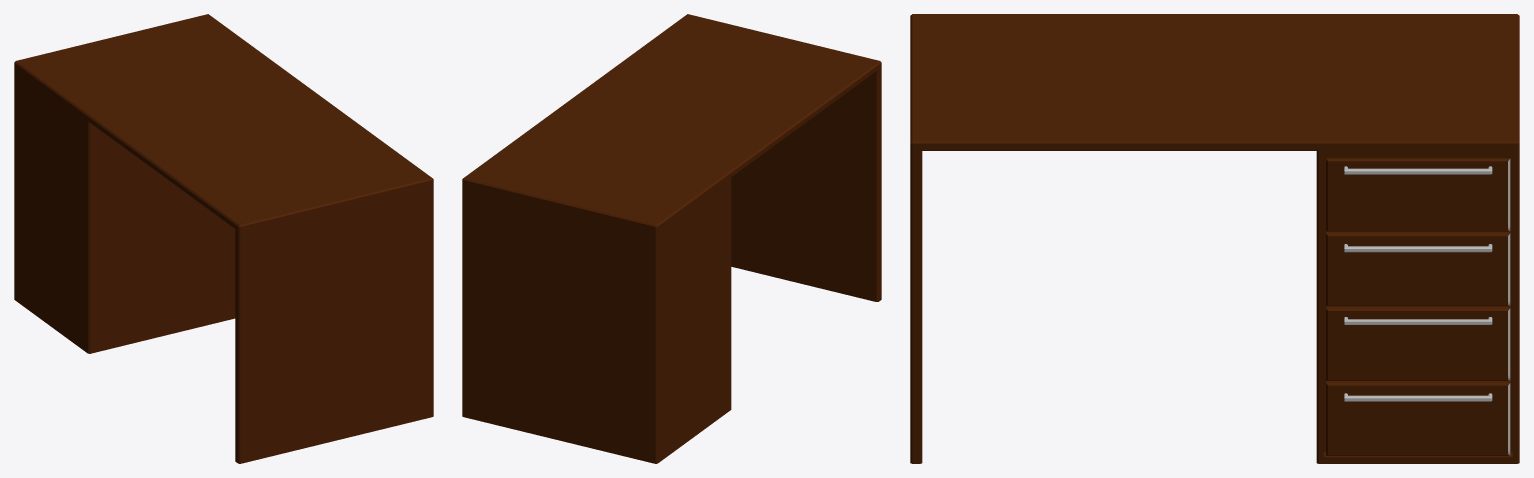
Rendered from Desk.fbx.
The picture shows the model from 3 angles, left to right: view 1: azimuth 30°, elevation 25°; view 2: azimuth 150°, elevation 25°; view 3: azimuth 270°, elevation 25°; orthographic projection. The views are drawn at different scales.
Visible parts, largest first — view 1: Cube; view 2: Cube; view 3: Cube.
Boxes of the visible parts, <box> form: Cube: <box>14,14,433,463</box>; Cube: <box>462,14,881,463</box>; Cube: <box>910,14,1519,463</box>.
Size of the model in its own units: 61.98 by 70 by 120.
